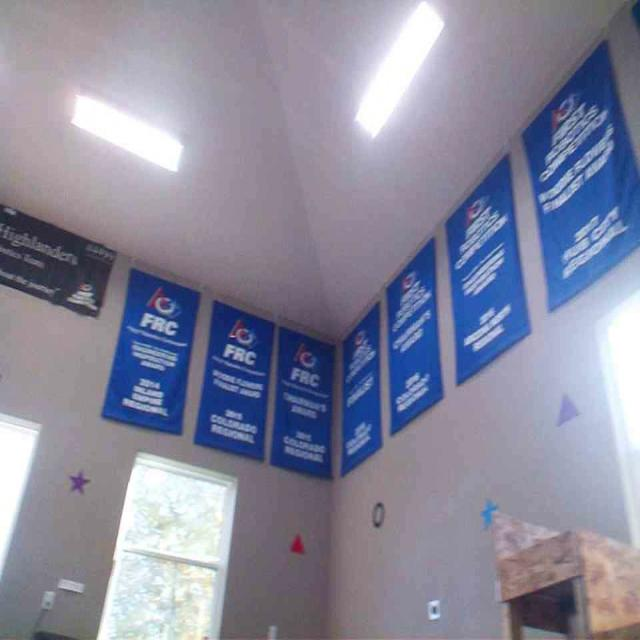ring_black: (371, 501, 385, 527)
star_purple: (69, 468, 90, 494)
triangle_purple: (555, 389, 580, 426)
triangle_red: (289, 533, 305, 553)
